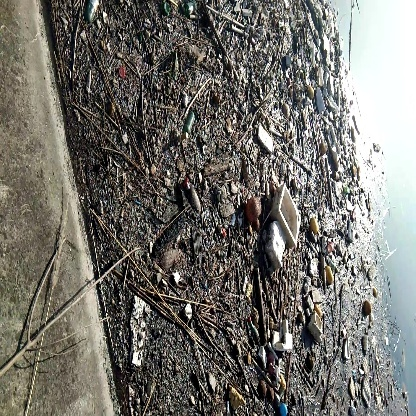plastic-garbage: (263, 183, 308, 272)
